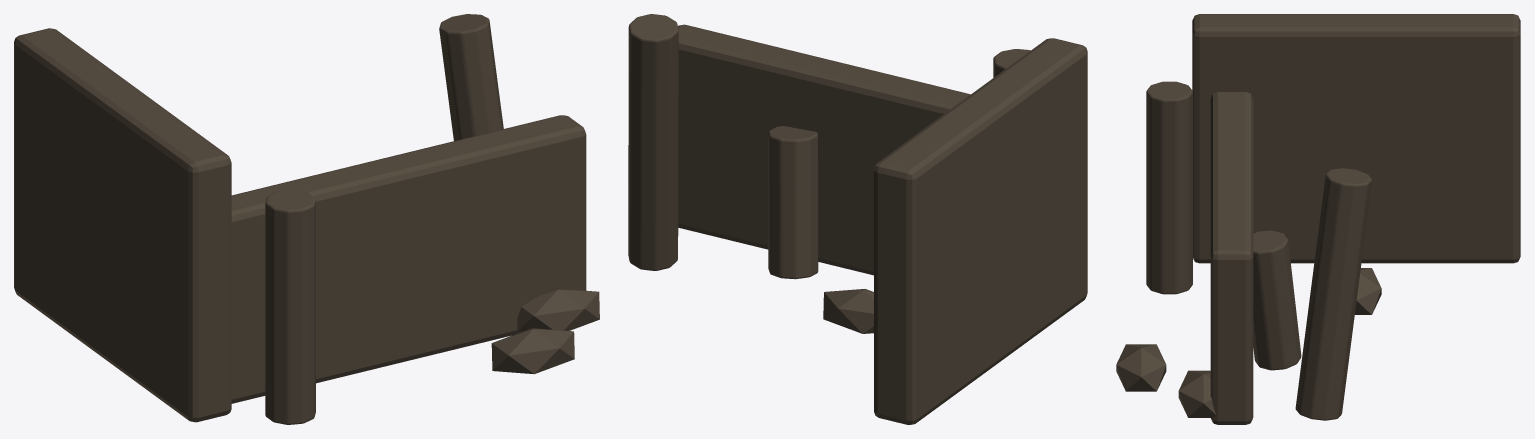
Rendered from ancient_ruin.glb.
The picture shows the model from 3 angles, left to right: view 1: azimuth 30°, elevation 25°; view 2: azimuth 150°, elevation 25°; view 3: azimuth 270°, elevation 25°; orthographic projection. The views are drawn at different scales.
Visible parts, largest first — view 1: BrokenWall.001, BrokenWall, BrokenColumn, BrokenColumn.002, Rubble.001, Rubble.002; view 2: BrokenWall.001, BrokenWall, BrokenColumn.002, BrokenColumn.001, Rubble, BrokenColumn; view 3: BrokenWall.001, BrokenWall, BrokenColumn.002, BrokenColumn, BrokenColumn.001, Rubble.001, Rubble.002, Rubble.
Part boxes in pixels (box(x1,y1,x2,y2)): BrokenWall.001: box(14, 28, 231, 422); BrokenWall: box(231, 115, 586, 403); BrokenColumn: box(265, 190, 315, 424); BrokenColumn.002: box(439, 14, 503, 140); Rubble.001: box(491, 328, 574, 374); Rubble.002: box(517, 289, 599, 331); BrokenWall.001: box(874, 38, 1087, 424); BrokenWall: box(678, 24, 970, 275); BrokenColumn.002: box(628, 14, 678, 270); BrokenColumn.001: box(768, 126, 818, 279); Rubble: box(823, 289, 873, 333); BrokenColumn: box(993, 49, 1030, 77); BrokenWall.001: box(1192, 14, 1520, 263); BrokenWall: box(1210, 92, 1253, 424); BrokenColumn.002: box(1295, 168, 1371, 420); BrokenColumn: box(1146, 81, 1192, 294); BrokenColumn.001: box(1253, 230, 1301, 370); Rubble.001: box(1116, 344, 1166, 391); Rubble.002: box(1178, 370, 1215, 417); Rubble: box(1355, 268, 1381, 314).
Bounding box in the file's own units: 7.66 × 4.64 × 7.14.
